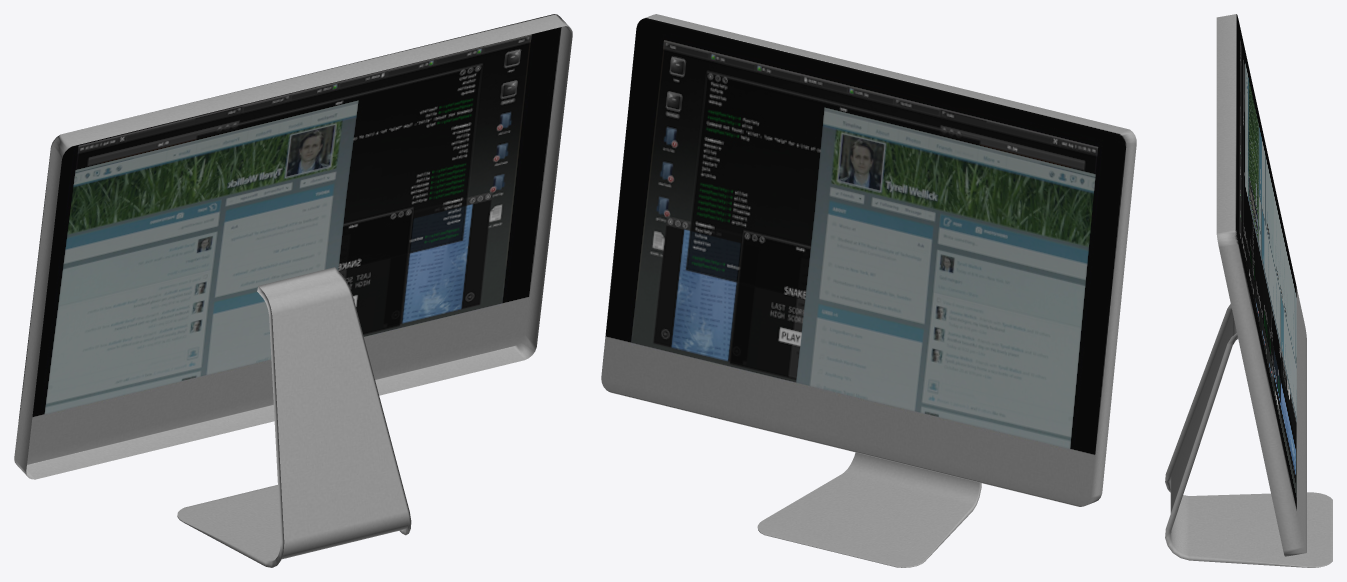
File: mac2.fbx
3 renders of one model, left to right at view 1: azimuth 30°, elevation 25°; view 2: azimuth 150°, elevation 25°; view 3: azimuth 270°, elevation 25°, orthographic. The views are drawn at different scales.
Parts seen in each view (by area): view 1: mac:mac_air; view 2: mac:mac_air; view 3: mac:mac_air.
Boxes of the visible parts, x1,y1,x2,y2 form: mac:mac_air: [14, 14, 572, 567]; mac:mac_air: [601, 14, 1136, 567]; mac:mac_air: [1165, 14, 1332, 567].
Bounding box in the file's own units: 0.6498 × 0.5552 × 0.2065.
1 material, 1 textured.
